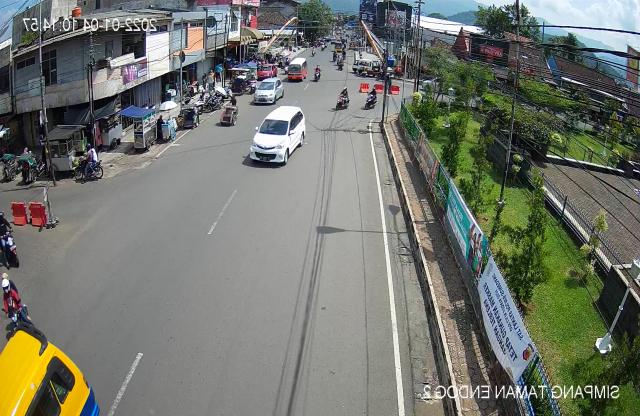Becak: (218, 97, 238, 128)
Mobil: (0, 319, 99, 416), (240, 104, 308, 171), (251, 78, 284, 105), (286, 58, 308, 83)
Motor: (69, 142, 103, 185), (331, 86, 351, 114), (361, 85, 378, 112), (312, 64, 323, 84)
